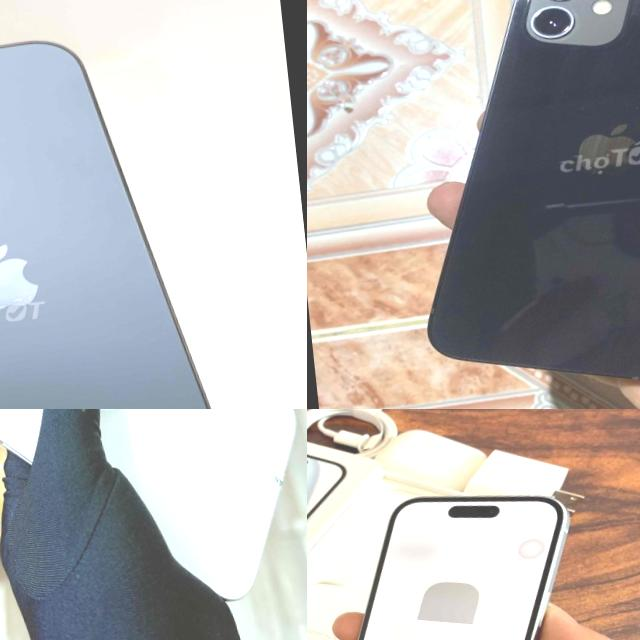gen_12_13: (379, 0, 640, 408), (0, 409, 307, 631), (307, 469, 599, 640)
gen_15: (0, 18, 237, 409)
